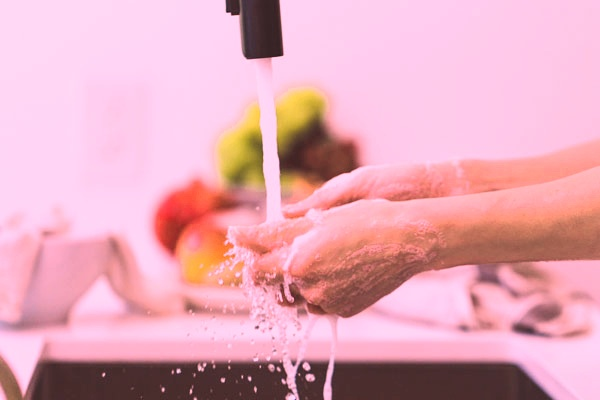washing hand: (111, 16, 521, 328)
